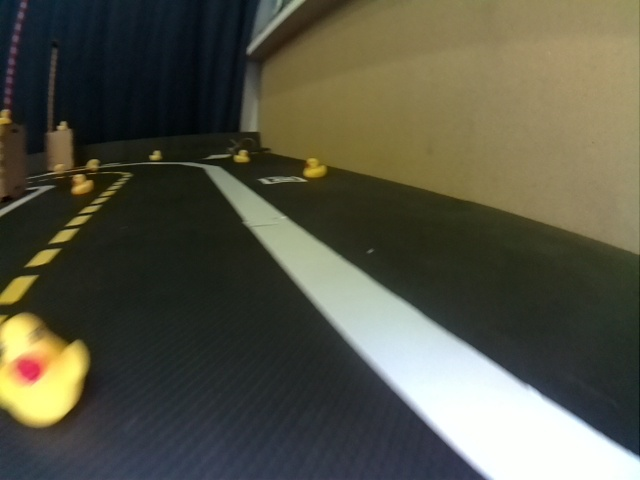Duckie: (3, 313, 90, 427), (71, 173, 93, 195), (307, 158, 327, 178), (234, 150, 249, 162), (86, 159, 99, 171), (2, 109, 11, 125), (151, 151, 159, 161), (54, 163, 62, 172), (57, 121, 65, 130)
QR code: (260, 176, 306, 184)
